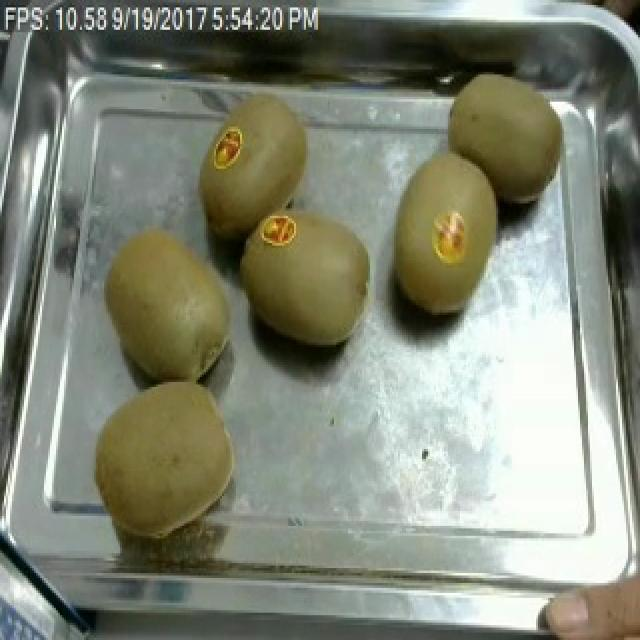Fruit: (84, 367, 248, 548), (90, 211, 250, 392), (378, 136, 520, 325), (430, 52, 584, 223), (186, 80, 320, 256), (228, 201, 380, 355), (534, 555, 640, 640)
